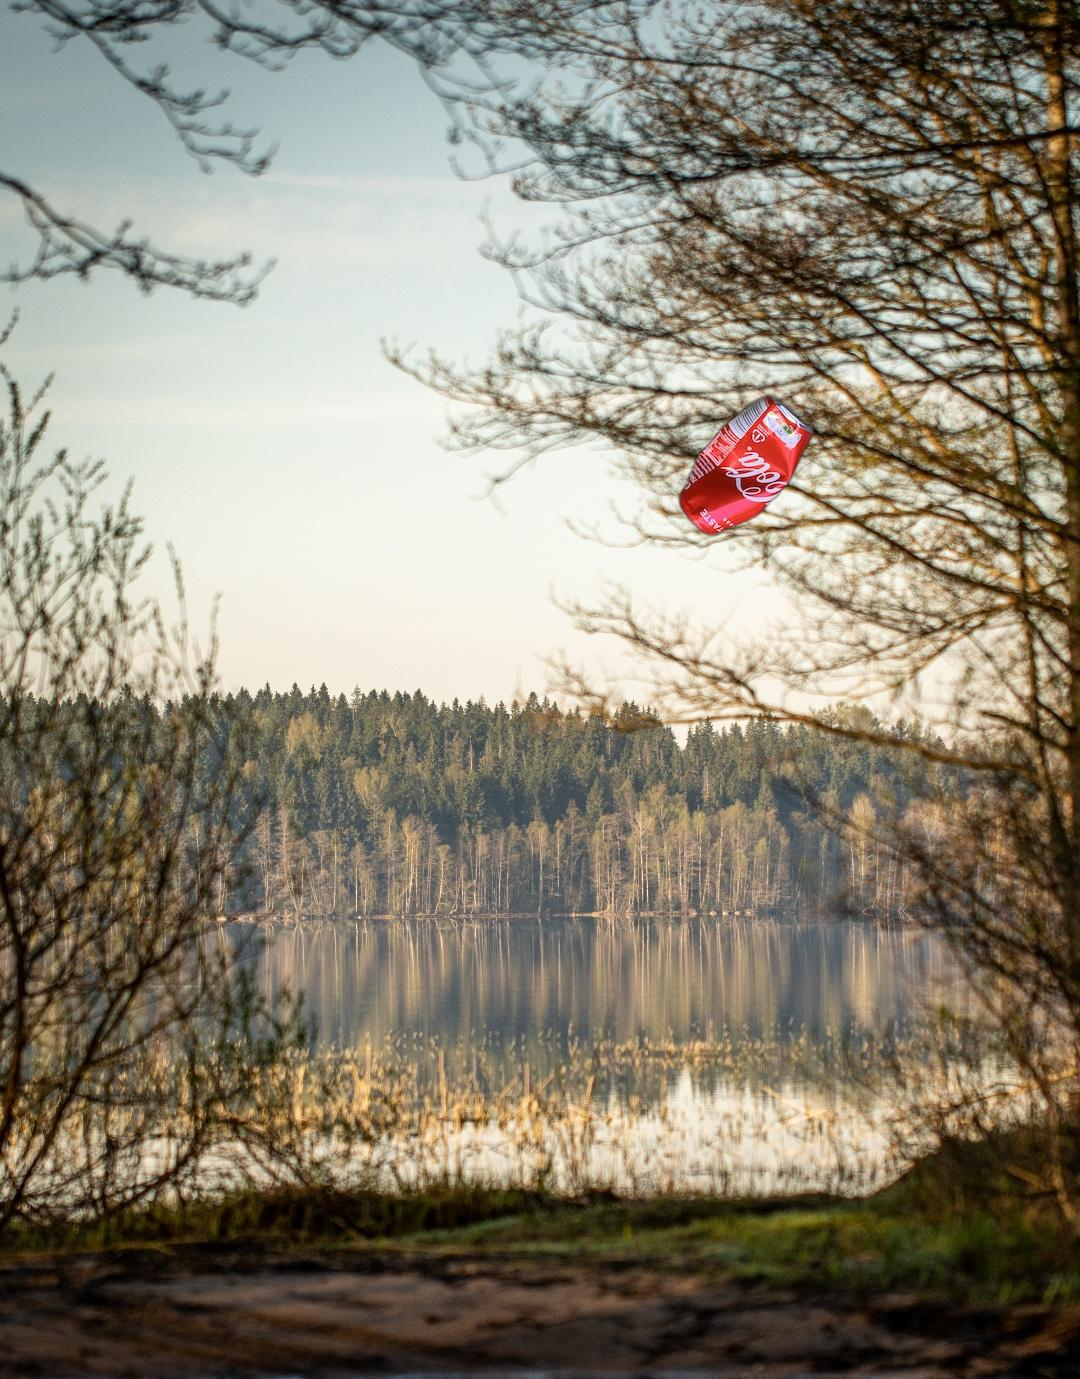metal-cans: (674, 390, 820, 542)
